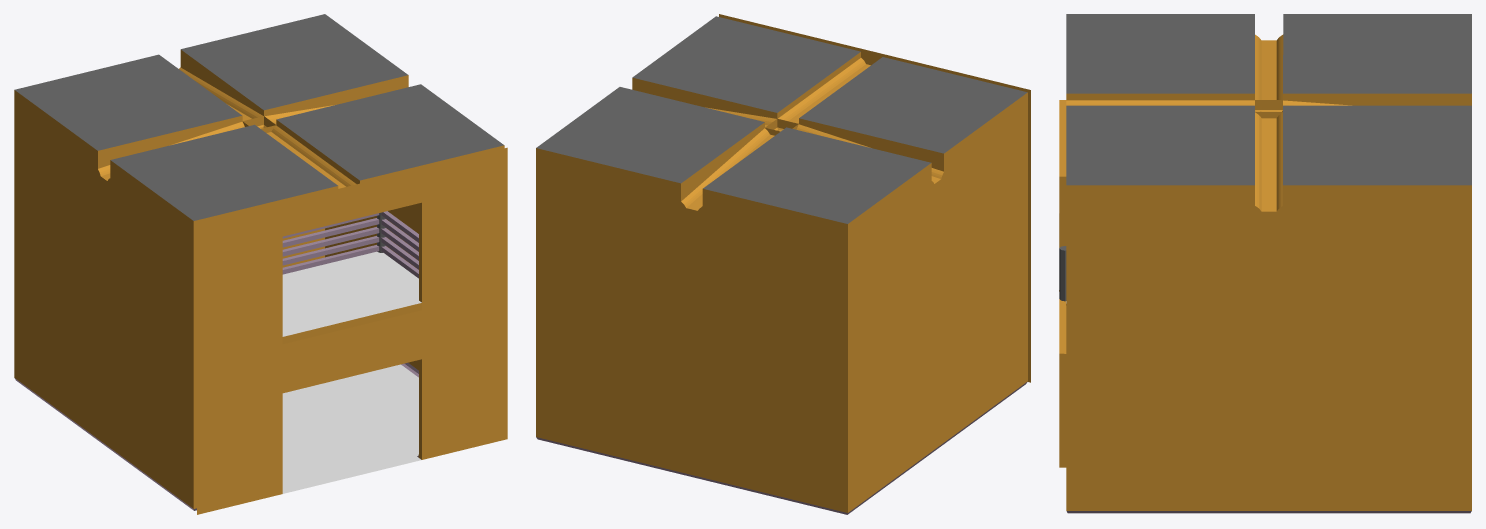
File: bigRoom2.fbx
The picture shows the model from 3 angles, left to right: view 1: azimuth 30°, elevation 25°; view 2: azimuth 150°, elevation 25°; view 3: azimuth 270°, elevation 25°; orthographic projection. The views are drawn at different scales.
Parts seen in each view (by area): view 1: Plane, Cube, Cube.002; view 2: Plane; view 3: Plane.
Part boxes in pixels (x1,y1,x2,y2): Plane: (14,14,507,514); Cube: (282,213,379,274); Cube.002: (381,211,418,278); Plane: (536,14,1030,514); Plane: (1059,14,1471,513).
Bounding box in the file's own units: 14.5 × 13 × 14.76.
